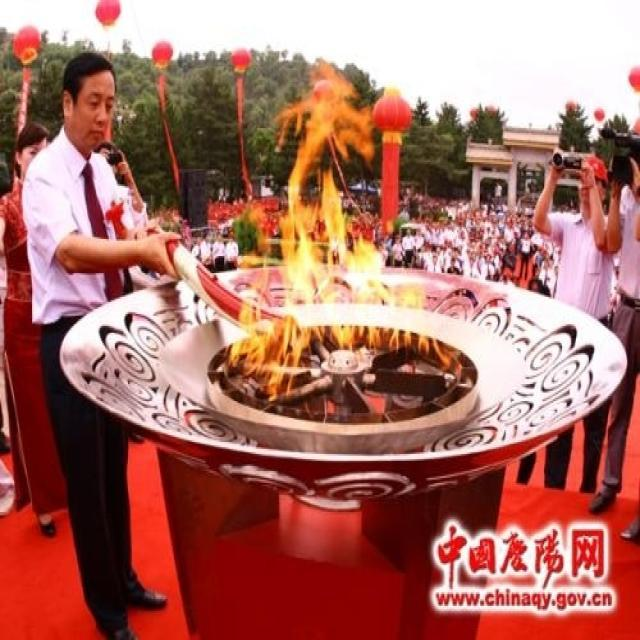Fire: (226, 58, 464, 400)
